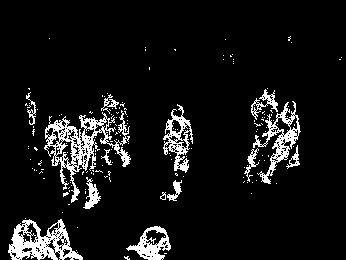person: (157, 104, 197, 203), (260, 98, 301, 185), (245, 85, 279, 184), (45, 111, 81, 204), (76, 111, 105, 209), (101, 89, 133, 168)
